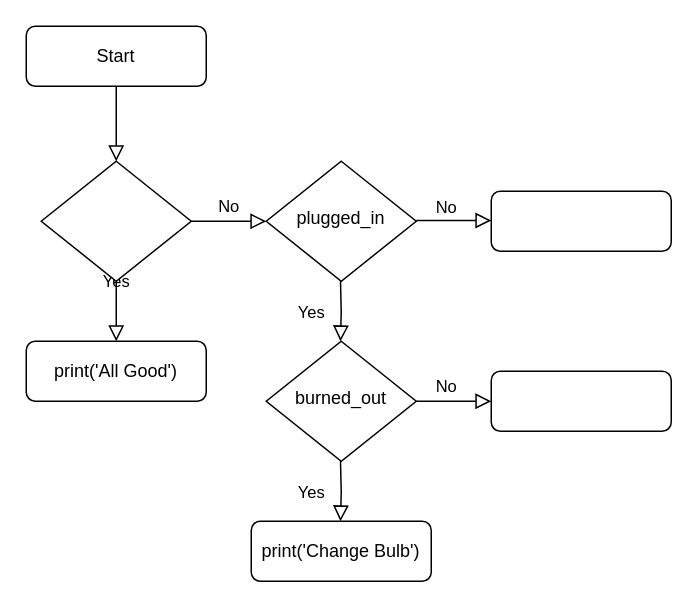
This 698x608 diagram has some shape labels left out. The shapes that lost their labels are listed below. From the top down, each one's centre as x and y in pixels, then its label:
(115,220): turn_on
(580,220): print('Plug In')
(580,400): print('Throw Away')
